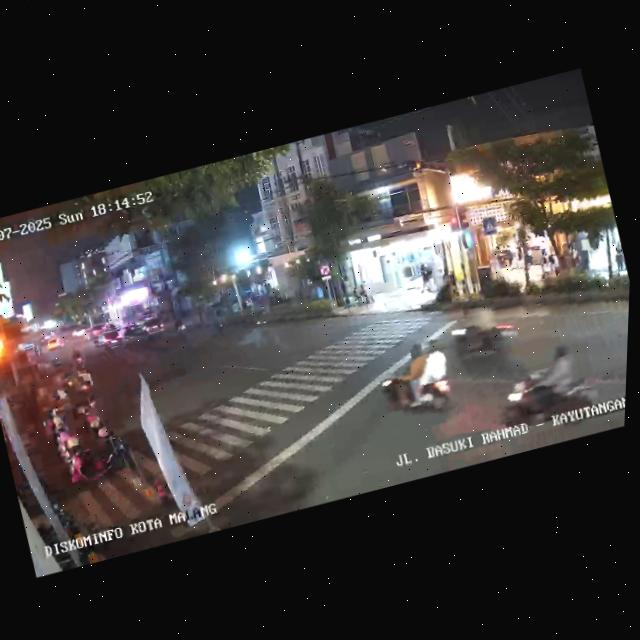car: (119, 312, 169, 347)
motorcycle: (490, 337, 605, 446), (370, 334, 463, 427), (440, 298, 522, 372), (171, 312, 191, 340), (69, 346, 89, 373)
person: (76, 365, 98, 406), (536, 247, 554, 280), (416, 261, 435, 291), (612, 243, 628, 273)
